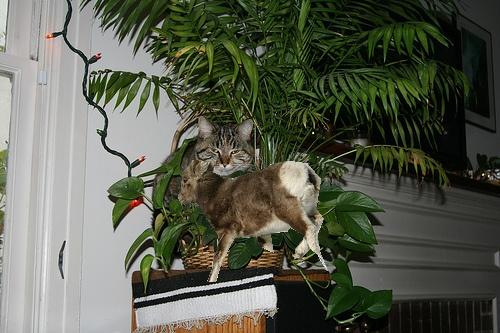tampered: (179, 161, 328, 282)
